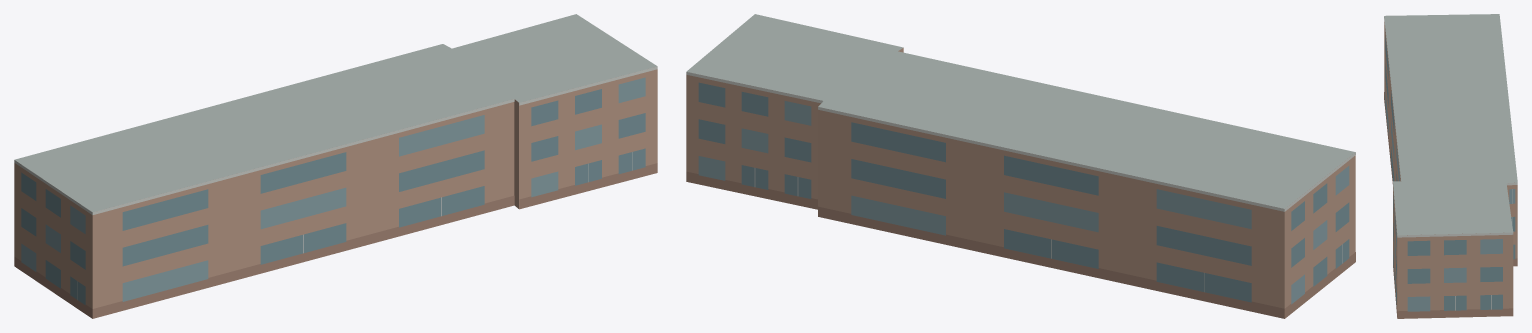
File: survey-upis-32582255.glb
3 views of the same model, side by side, from view 1: azimuth 30°, elevation 25°; view 2: azimuth 150°, elevation 25°; view 3: azimuth 270°, elevation 25° (orthographic). The views are drawn at different scales.
Visible parts, largest first — view 1: survey-upis-32582255.tmp; view 2: survey-upis-32582255.tmp; view 3: survey-upis-32582255.tmp.
Part boxes in pixels (bbox=[...]): survey-upis-32582255.tmp: bbox=[14, 14, 657, 318]; survey-upis-32582255.tmp: bbox=[686, 14, 1355, 318]; survey-upis-32582255.tmp: bbox=[1384, 14, 1517, 318].
Bounding box in the file's own units: 51.99 × 9.15 × 13.27.
